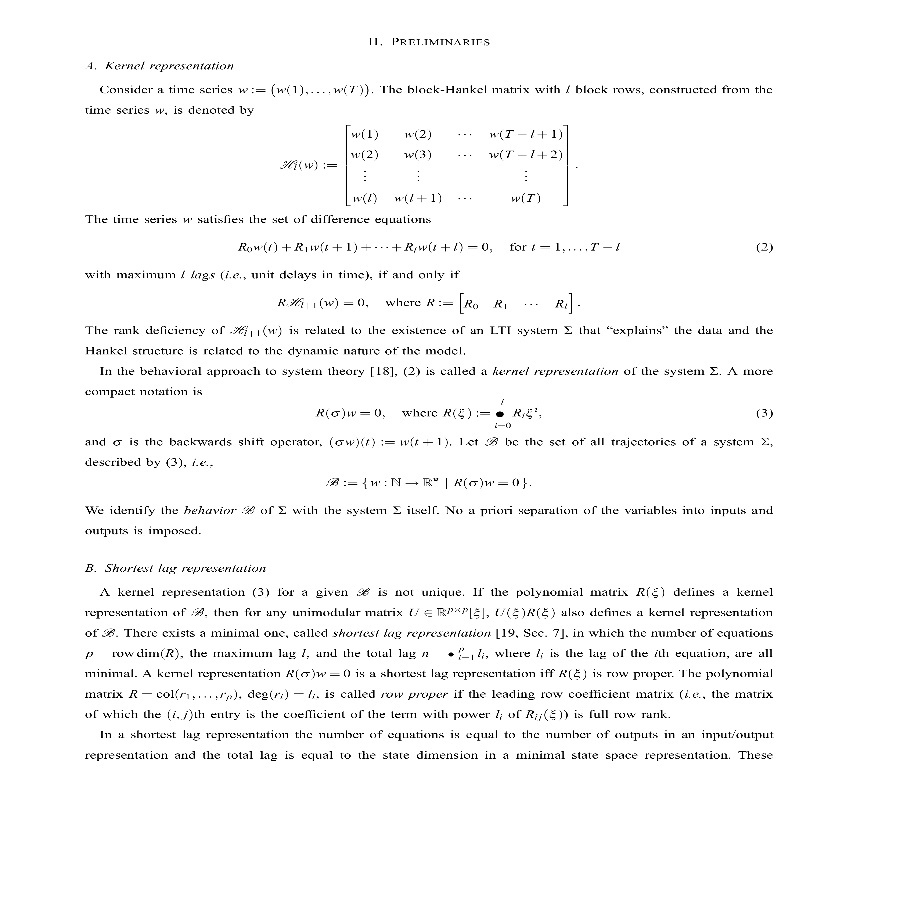eq: (277, 121, 573, 210), (319, 469, 530, 495), (233, 237, 490, 258), (427, 289, 578, 315), (443, 396, 545, 431), (274, 291, 372, 314), (508, 239, 627, 257), (311, 405, 386, 422)
